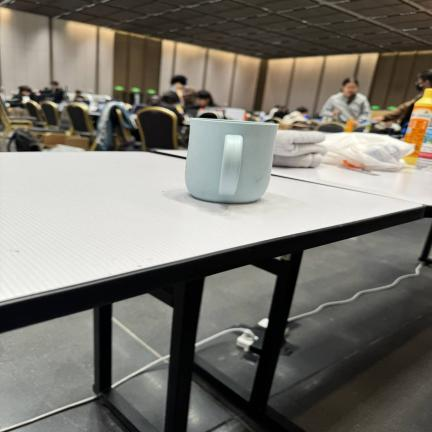cup: (185, 119, 277, 204)
